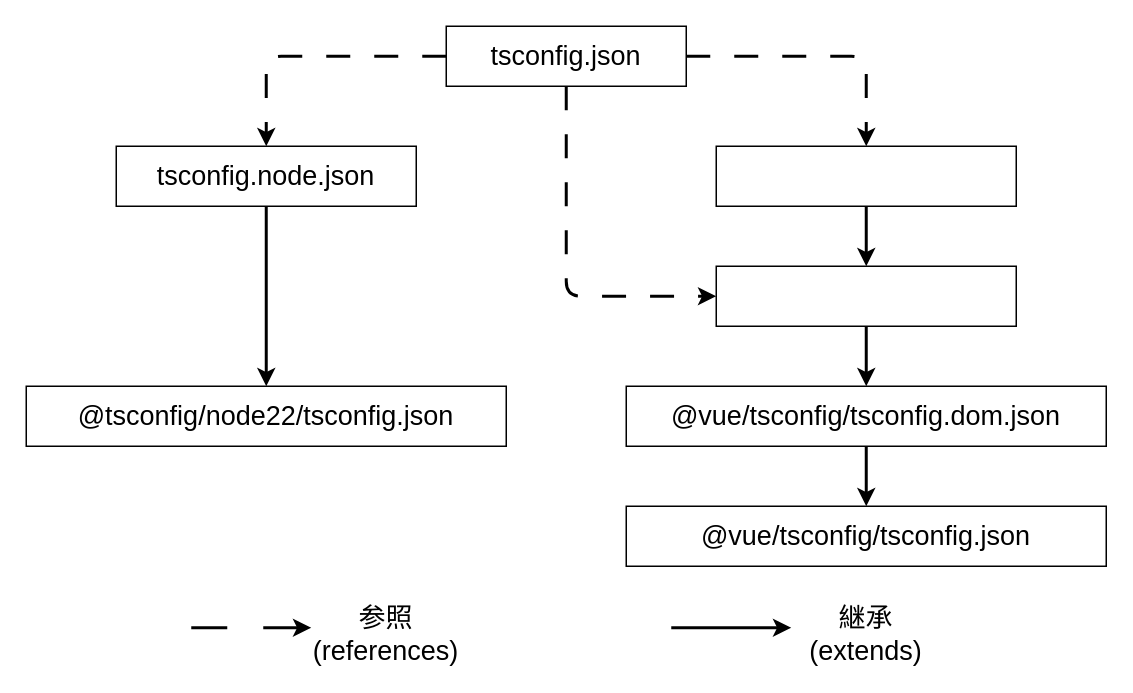
Image size: 1133x693. Some labels were removed from this diagram. The shapes that lost their labels are listed below. From the top down, each one's centre as x and y in pixels, then its label:
(865,175): tsconfig.vitest.json
(865,295): tsconfig.app.json
